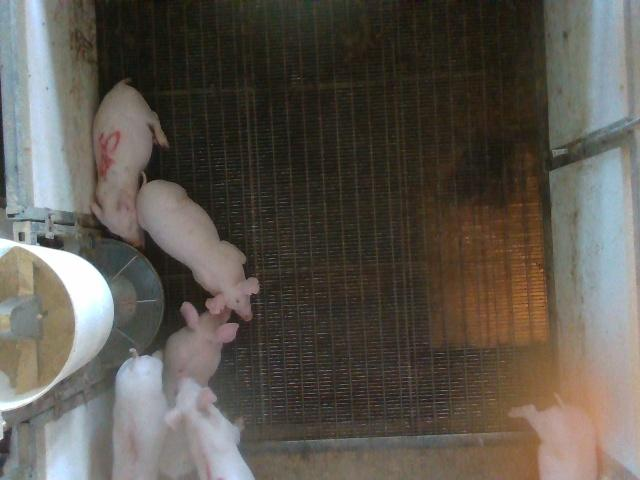pig-1: (112, 350, 168, 478)
pig-3: (164, 302, 239, 406), (159, 425, 195, 479)
pig-4: (165, 378, 254, 479)
pig-5: (91, 80, 169, 246)
